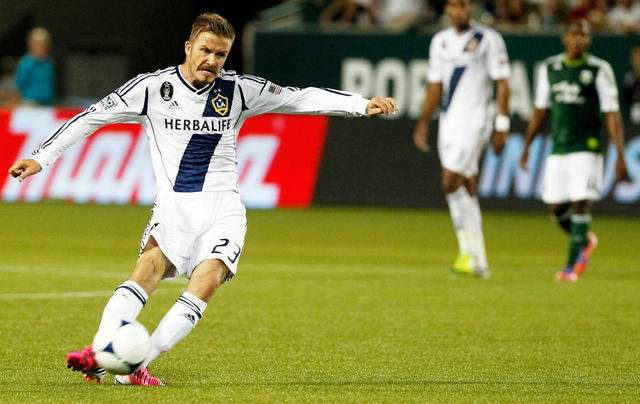football: (93, 320, 150, 375)
